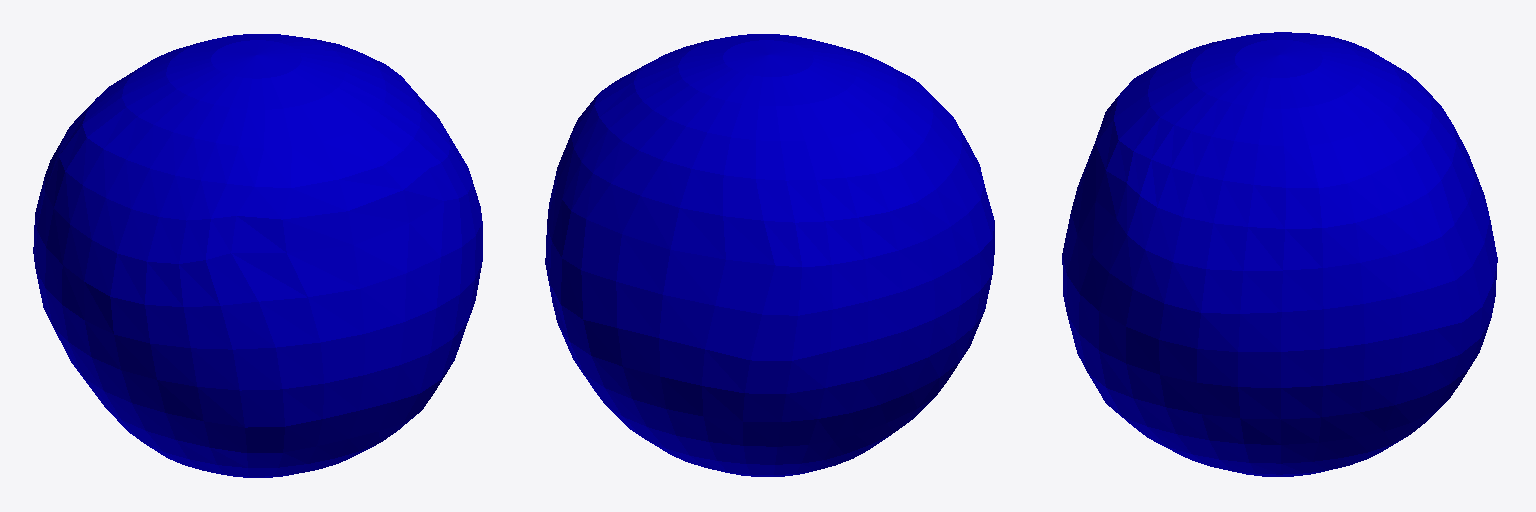
File: blueball.obj
3 renders of one model, left to right at view 1: azimuth 30°, elevation 25°; view 2: azimuth 150°, elevation 25°; view 3: azimuth 270°, elevation 25°, orthographic.
Parts seen in each view (by area): view 1: Sphere; view 2: Sphere; view 3: Sphere.
Boxes of the visible parts, x1=… form: Sphere: x1=33, y1=34, x2=482, y2=477; Sphere: x1=545, y1=34, x2=994, y2=476; Sphere: x1=1062, y1=32, x2=1497, y2=476.
Bounding box in the file's own units: 1.51 × 1.5 × 1.47.